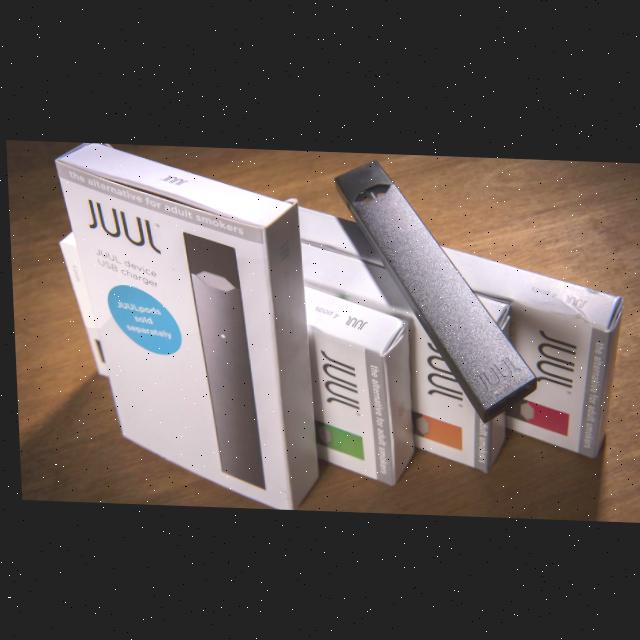vape: (332, 154, 536, 423), (180, 230, 262, 489)
